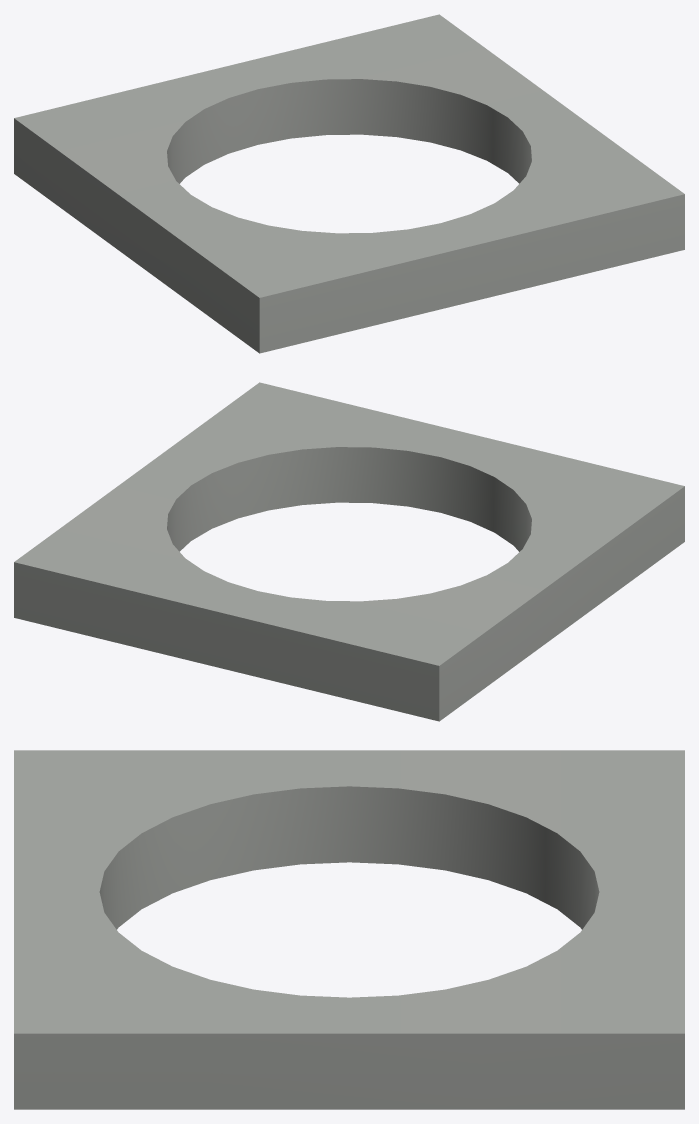
The model's file is Floor_Hole_1x1.fbx.
3 views of the same model, one above another, from view 1: azimuth 30°, elevation 25°; view 2: azimuth 150°, elevation 25°; view 3: azimuth 270°, elevation 25° (orthographic). The views are drawn at different scales.
Parts seen in each view (by area): view 1: Floor_Hole_1x1; view 2: Floor_Hole_1x1; view 3: Floor_Hole_1x1.
Boxes of the visible parts, x1=… form: Floor_Hole_1x1: x1=14, y1=14, x2=684, y2=353; Floor_Hole_1x1: x1=14, y1=382, x2=684, y2=721; Floor_Hole_1x1: x1=14, y1=750, x2=684, y2=1109.
Bounding box in the file's own units: 100 × 12.5 × 100.
